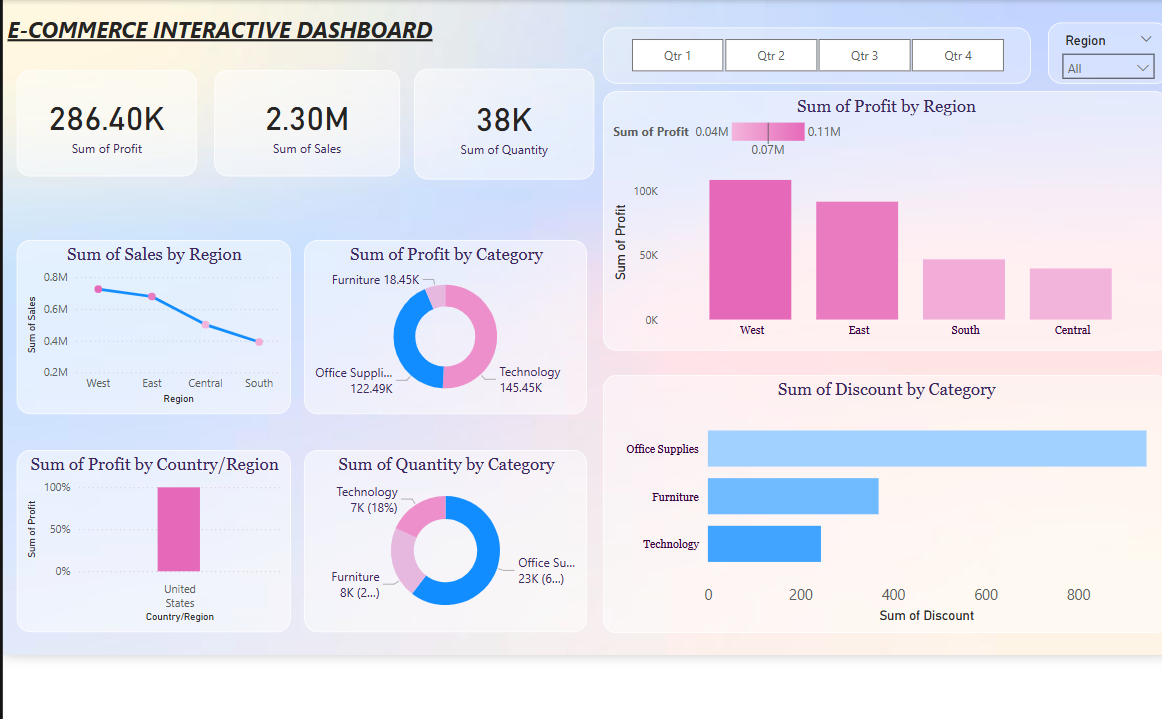

The page's visual inventory and layout, read from the dashboard file:
{"tool":"powerbi","page":{"name":"Page 1","canvas":[1280,720],"ordinal":0},"visuals":[{"type":"textbox","box":[0,11,903.1,81],"z":0},{"type":"columnChart","fields":{"Y":["Pavan Lalwani Sales Report xlsx - Orders.Profit"],"Category":["Pavan Lalwani Sales Report xlsx - Orders.Region"]},"box":[658.9,100.6,620.9,284.7],"z":1000},{"type":"barChart","fields":{"Category":["Pavan Lalwani Sales Report xlsx - Orders.Category"],"Y":["Pavan Lalwani Sales Report xlsx - Orders.Discount"]},"box":[658.9,411,620.9,283.4],"z":2000},{"type":"donutChart","fields":{"Category":["Pavan Lalwani Sales Report xlsx - Orders.Category"],"Y":["Pavan Lalwani Sales Report xlsx - Orders.Quantity"]},"box":[330.1,494.5,310.4,200],"z":3000},{"type":"pieChart","fields":{"Category":["Pavan Lalwani Sales Report xlsx - Orders.Category"],"Y":["Pavan Lalwani Sales Report xlsx - Orders.Profit"]},"box":[331.3,263.8,310.4,191.4],"z":4000},{"type":"card","fields":{"Values":["Pavan Lalwani Sales Report xlsx - Orders.Profit"]},"box":[14.7,77.3,197.5,116.6],"z":5000},{"type":"card","fields":{"Values":["Pavan Lalwani Sales Report xlsx - Orders.Sales"]},"box":[231.9,77.3,203.7,116.6],"z":6000},{"type":"card","fields":{"Values":["Pavan Lalwani Sales Report xlsx - Orders.Quantity"]},"box":[451.5,74.8,197.5,121.5],"z":7000},{"type":"lineChart","fields":{"Y":["Pavan Lalwani Sales Report xlsx - Orders.Sales"],"Category":["Pavan Lalwani Sales Report xlsx - Orders.Region"]},"box":[14.7,263.8,300.6,191.4],"z":7001},{"type":"hundredPercentStackedColumnChart","fields":{"Category":["Pavan Lalwani Sales Report xlsx - Orders.Country/Region"],"Y":["Pavan Lalwani Sales Report xlsx - Orders.Profit"]},"box":[15,494,301,200],"z":7002},{"type":"slicer","fields":{"Values":["Pavan Lalwani Sales Report xlsx - Orders.Order Date.Variation.Date Hierarchy.Quarter"]},"box":[658.9,30.7,469.9,61.4],"z":7003},{"type":"slicer","fields":{"Values":["Pavan Lalwani Sales Report xlsx - Orders.Region"]},"box":[1147.2,24.5,132.5,67.5],"z":7004}]}

Visuals, with their boxes on the page's 1280x720 design canvas (x1, y1, x2, y2). These are canvas units, not pixel positions in the 1162x719 screenshot, which may show the page scaled, cropped or inside an application window:
textbox: detection(0, 11, 903, 92)
columnChart - Pavan Lalwani Sales Report xlsx - Orders.Profit x Pavan Lalwani Sales Report xlsx - Orders.Region: detection(659, 101, 1280, 385)
barChart - Pavan Lalwani Sales Report xlsx - Orders.Category x Pavan Lalwani Sales Report xlsx - Orders.Discount: detection(659, 411, 1280, 694)
donutChart - Pavan Lalwani Sales Report xlsx - Orders.Category x Pavan Lalwani Sales Report xlsx - Orders.Quantity: detection(330, 494, 640, 694)
pieChart - Pavan Lalwani Sales Report xlsx - Orders.Category x Pavan Lalwani Sales Report xlsx - Orders.Profit: detection(331, 264, 642, 455)
card - Pavan Lalwani Sales Report xlsx - Orders.Profit: detection(15, 77, 212, 194)
card - Pavan Lalwani Sales Report xlsx - Orders.Sales: detection(232, 77, 436, 194)
card - Pavan Lalwani Sales Report xlsx - Orders.Quantity: detection(452, 75, 649, 196)
lineChart - Pavan Lalwani Sales Report xlsx - Orders.Sales x Pavan Lalwani Sales Report xlsx - Orders.Region: detection(15, 264, 315, 455)
hundredPercentStackedColumnChart - Pavan Lalwani Sales Report xlsx - Orders.Country/Region x Pavan Lalwani Sales Report xlsx - Orders.Profit: detection(15, 494, 316, 694)
slicer - Pavan Lalwani Sales Report xlsx - Orders.Order Date.Variation.Date Hierarchy.Quarter: detection(659, 31, 1129, 92)
slicer - Pavan Lalwani Sales Report xlsx - Orders.Region: detection(1147, 24, 1280, 92)
